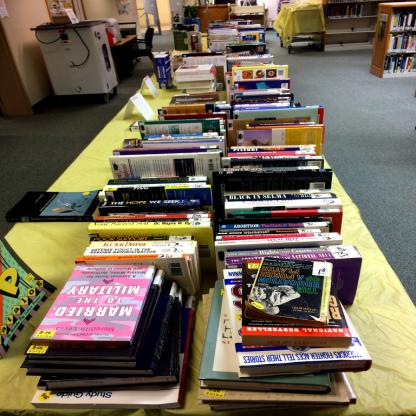book: (18, 20, 365, 415), (240, 256, 344, 349)
